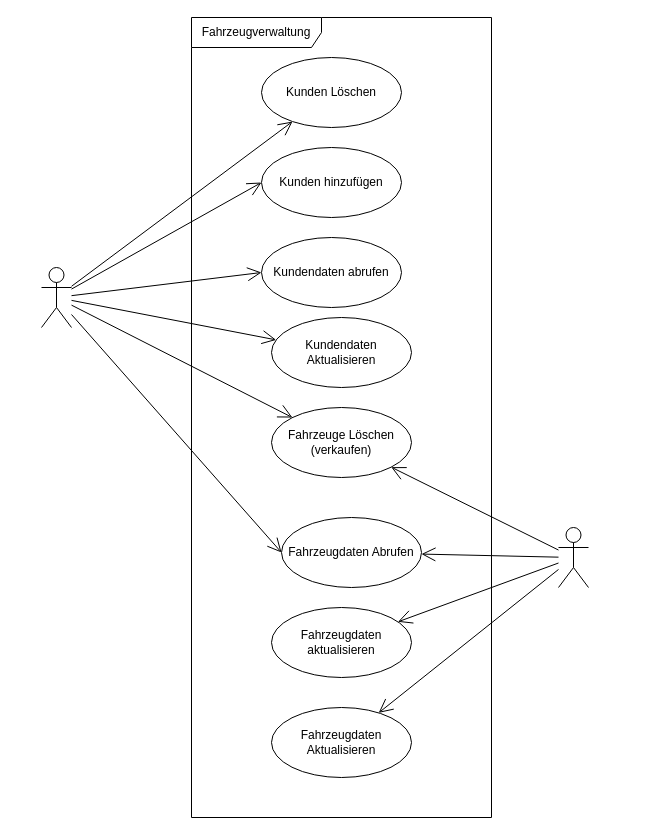
This 653x835 diagram has some shape labels left out. The shapes that lost their labels are listed below. From the top down, each one's centre as x and y in pixels, then its label:
At pixel 56 297: "Kundenberater".
At pixel 573 557: "Fahrzeugpark Manager".
